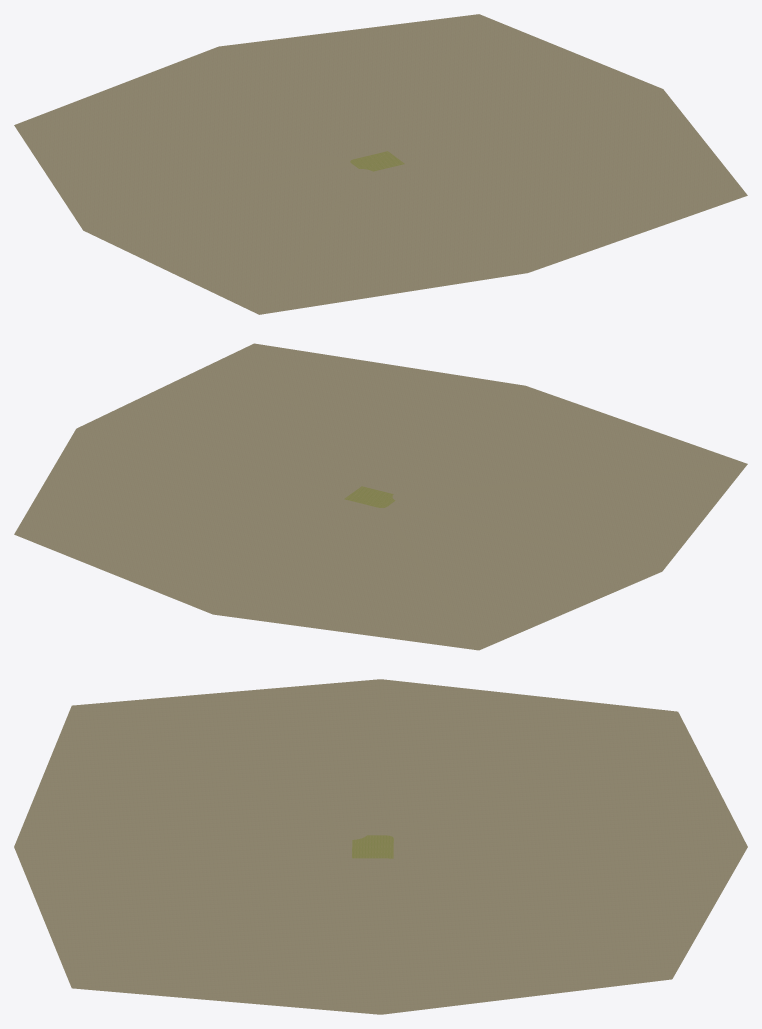
The model's file is Re_Invent_track_field.dae.
The picture shows the model from 3 angles, top to bottom: view 1: azimuth 30°, elevation 25°; view 2: azimuth 150°, elevation 25°; view 3: azimuth 270°, elevation 25°; orthographic projection. The views are drawn at different scales.
Parts seen in each view (by area): view 1: field; view 2: field; view 3: field.
Boxes of the visible parts, bbox=[...] form: field: bbox=[14, 14, 747, 314]; field: bbox=[14, 343, 747, 650]; field: bbox=[14, 679, 747, 1014].
Size of the model in its own units: 300 by 278 by 0.
2 materials, 2 textured.
